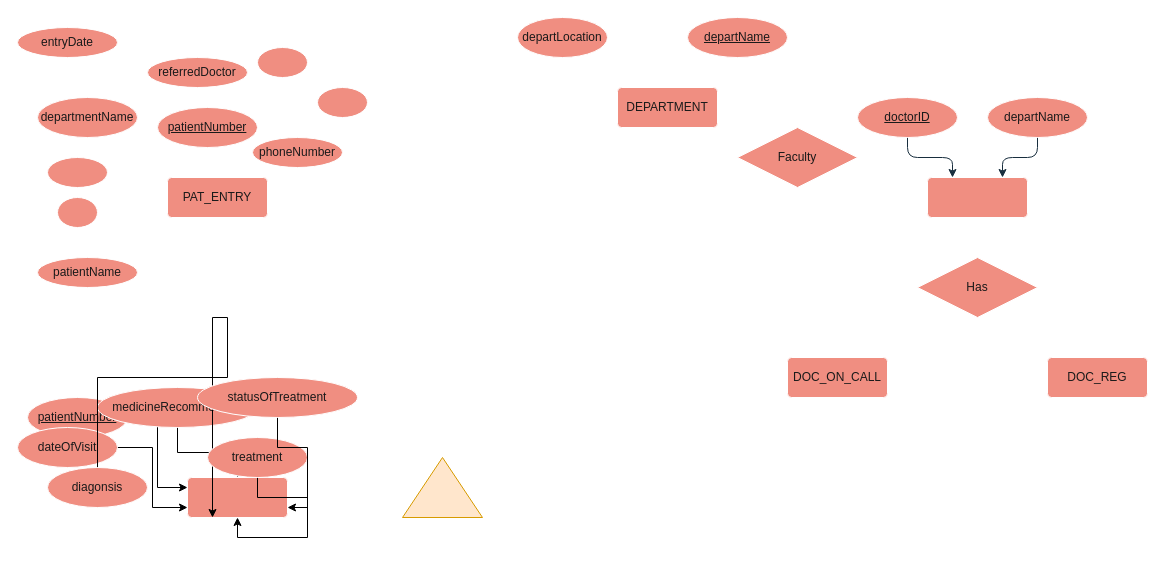
Some shapes in this 1165 by 563 pixel diagram are drawn without their labels. Here are the shapes that lost their labels. From the top down, the box of each, then its label:
(256, 46, 308, 78): sex
(316, 86, 368, 118): city
(46, 156, 108, 188): address
(56, 196, 98, 228): age
(926, 176, 1028, 218): ALL_DOCTORS
(186, 476, 288, 518): PAT_REG
(402, 456, 482, 518): ISA
